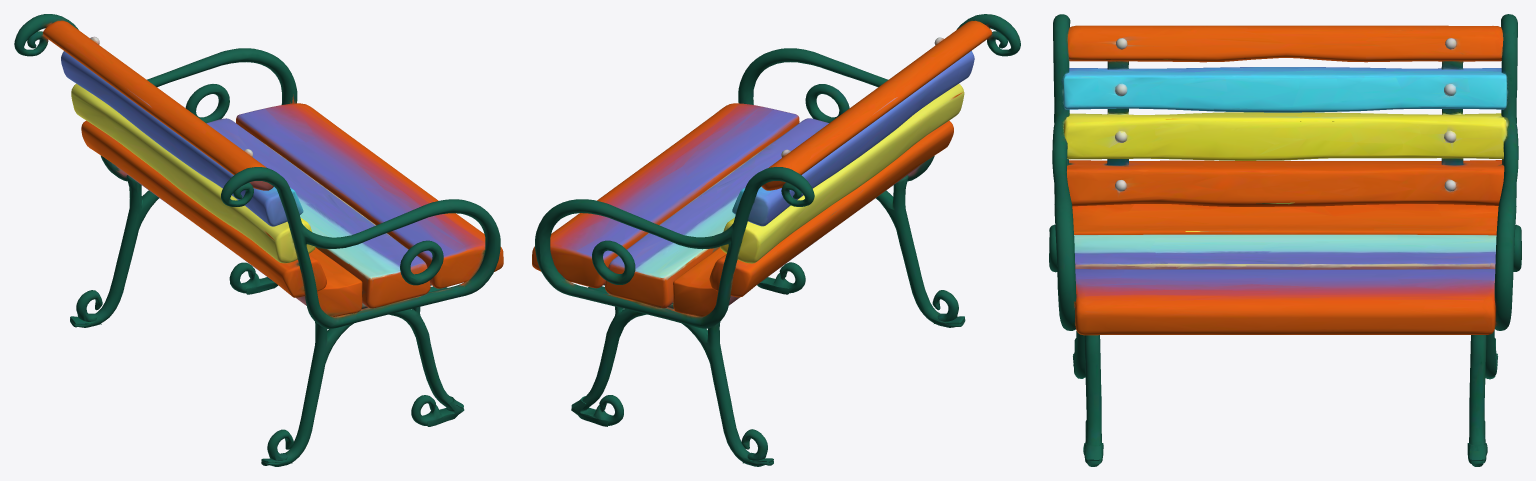
The model's file is bench.glb.
3 renders of one model, left to right at view 1: azimuth 30°, elevation 25°; view 2: azimuth 150°, elevation 25°; view 3: azimuth 270°, elevation 25°, orthographic. The views are drawn at different scales.
Visible parts, largest first — view 1: tripo_node_c0a65f46-6c51-4850-a3a6-916ae3d97299; view 2: tripo_node_c0a65f46-6c51-4850-a3a6-916ae3d97299; view 3: tripo_node_c0a65f46-6c51-4850-a3a6-916ae3d97299.
Part boxes in pixels (x1=…): tripo_node_c0a65f46-6c51-4850-a3a6-916ae3d97299: x1=14, y1=14, x2=503, y2=466; tripo_node_c0a65f46-6c51-4850-a3a6-916ae3d97299: x1=532, y1=14, x2=1020, y2=466; tripo_node_c0a65f46-6c51-4850-a3a6-916ae3d97299: x1=1049, y1=14, x2=1521, y2=466.
Bounding box in the file's own units: 0.8697 × 0.9001 × 1.15.
1 material, 1 textured.
